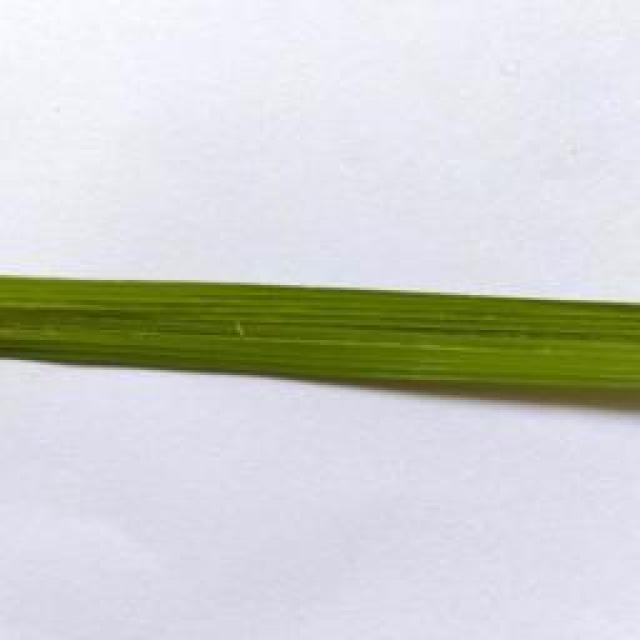Healthy-Plant: (0, 259, 640, 419)
